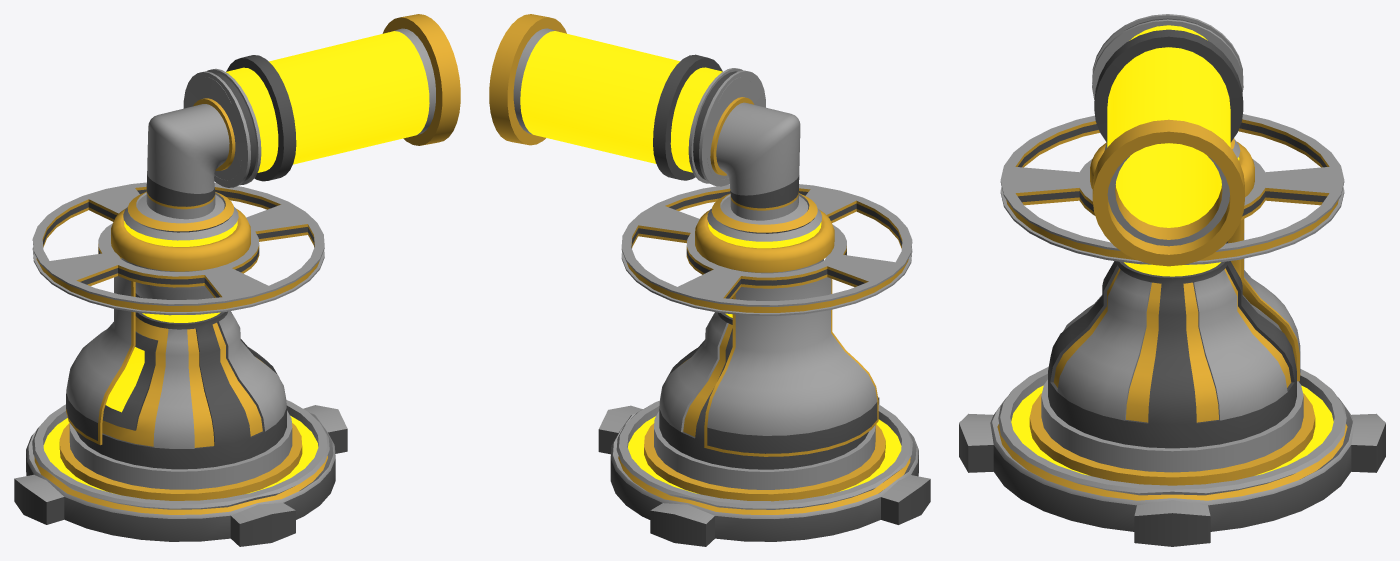
File: TowerC.fbx
3 views of the same model, side by side, from view 1: azimuth 30°, elevation 25°; view 2: azimuth 150°, elevation 25°; view 3: azimuth 270°, elevation 25° (orthographic). The views are drawn at different scales.
Parts seen in each view (by area): view 1: TowerC, CannonHead, DiscDetailC, TowerCShield; view 2: TowerC, CannonHead, TowerCShield, DiscDetailC; view 3: TowerC, CannonHead, DiscDetailC, TowerCShield.
Boxes of the visible parts, <box> form: TowerC: <box>14,192,347,546</box>; CannonHead: <box>146,14,460,219</box>; DiscDetailC: <box>32,182,324,315</box>; TowerCShield: <box>66,257,135,445</box>; TowerC: <box>598,193,930,546</box>; CannonHead: <box>489,14,800,220</box>; TowerCShield: <box>704,277,878,456</box>; DiscDetailC: <box>621,184,912,316</box>; TowerC: <box>959,138,1385,546</box>; CannonHead: <box>1092,14,1244,266</box>; DiscDetailC: <box>1000,114,1344,264</box>; TowerCShield: <box>1228,219,1300,381</box>.
Bounding box in the file's own units: 144 × 136 × 112.
